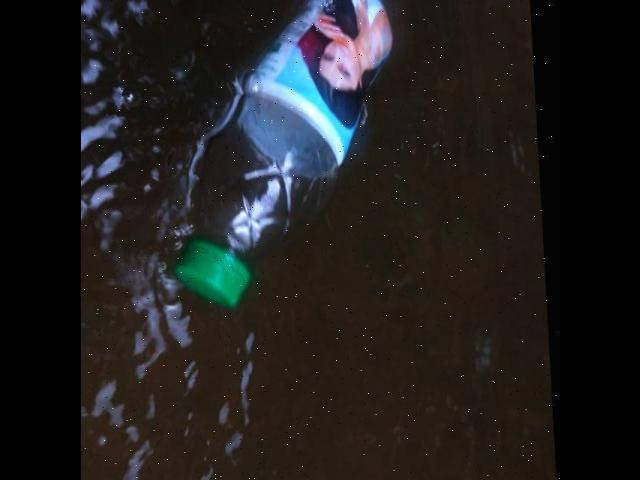Bottle: (170, 0, 400, 318)
